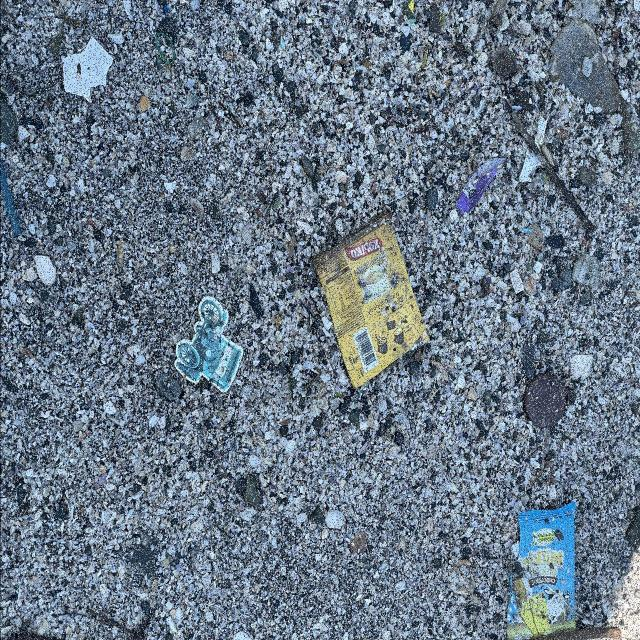plastic_waste: (313, 209, 432, 390), (506, 501, 578, 626), (456, 158, 507, 215)
